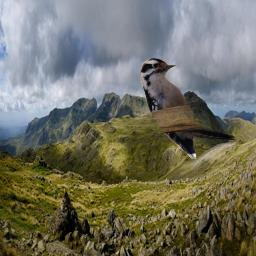Woodpecker: (140, 58, 235, 159)
